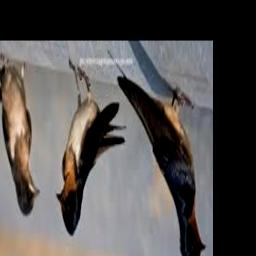Swallow: (117, 76, 206, 256), (56, 60, 126, 235), (0, 63, 39, 215)
